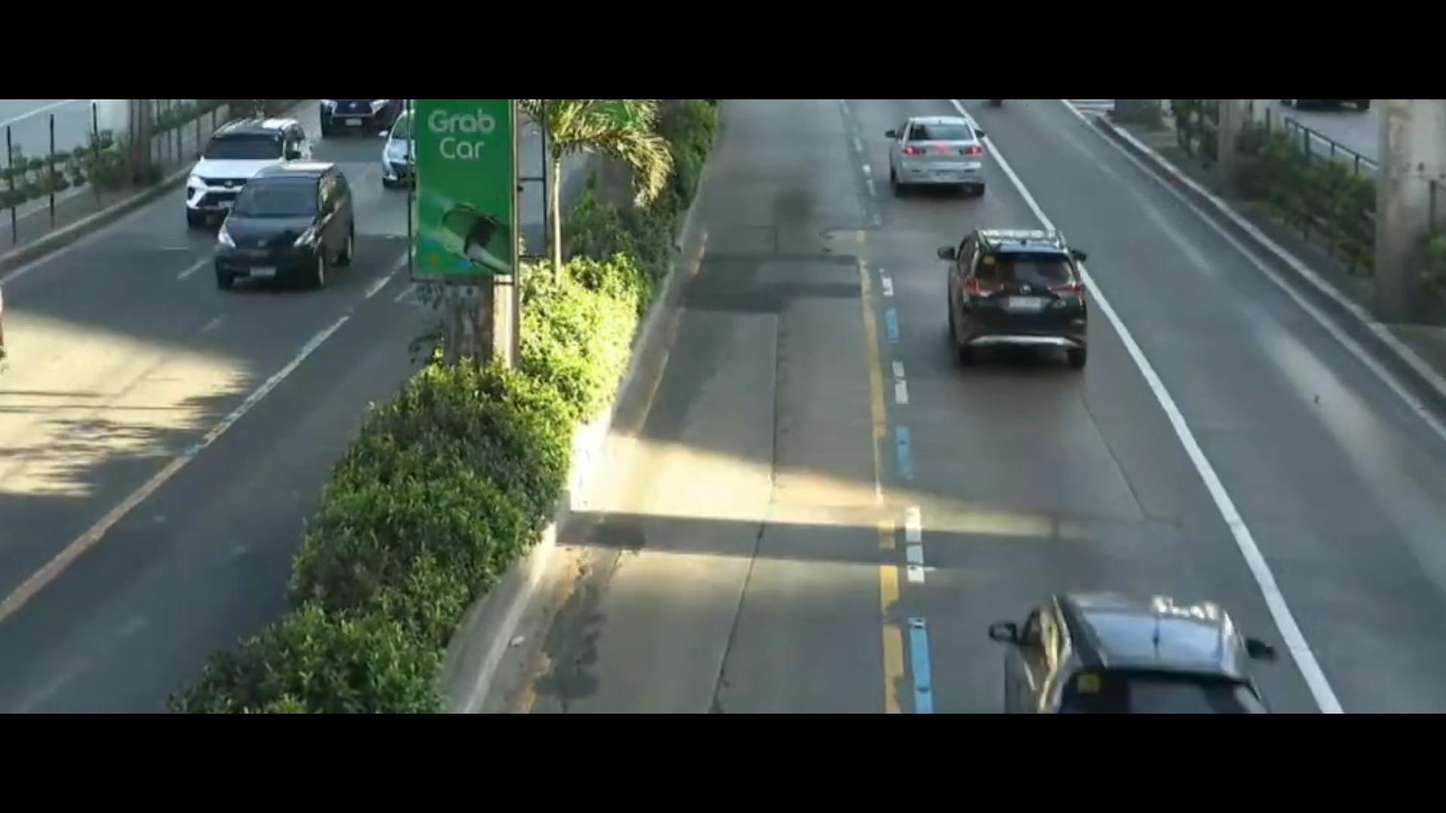SUV: (931, 221, 1115, 380), (206, 159, 372, 316), (181, 98, 332, 230)
Sedan: (882, 103, 999, 205)
